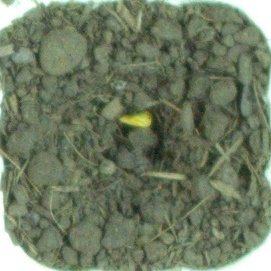chilli seed: (116, 107, 154, 130)
